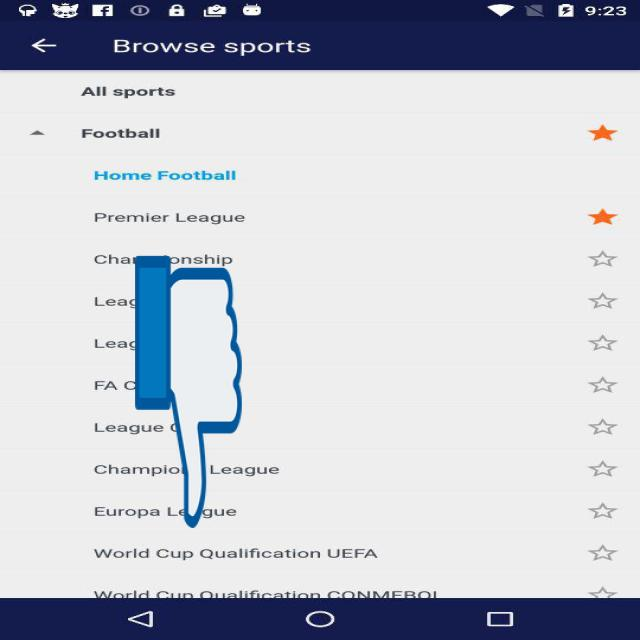obstruction: (135, 250, 242, 534)
